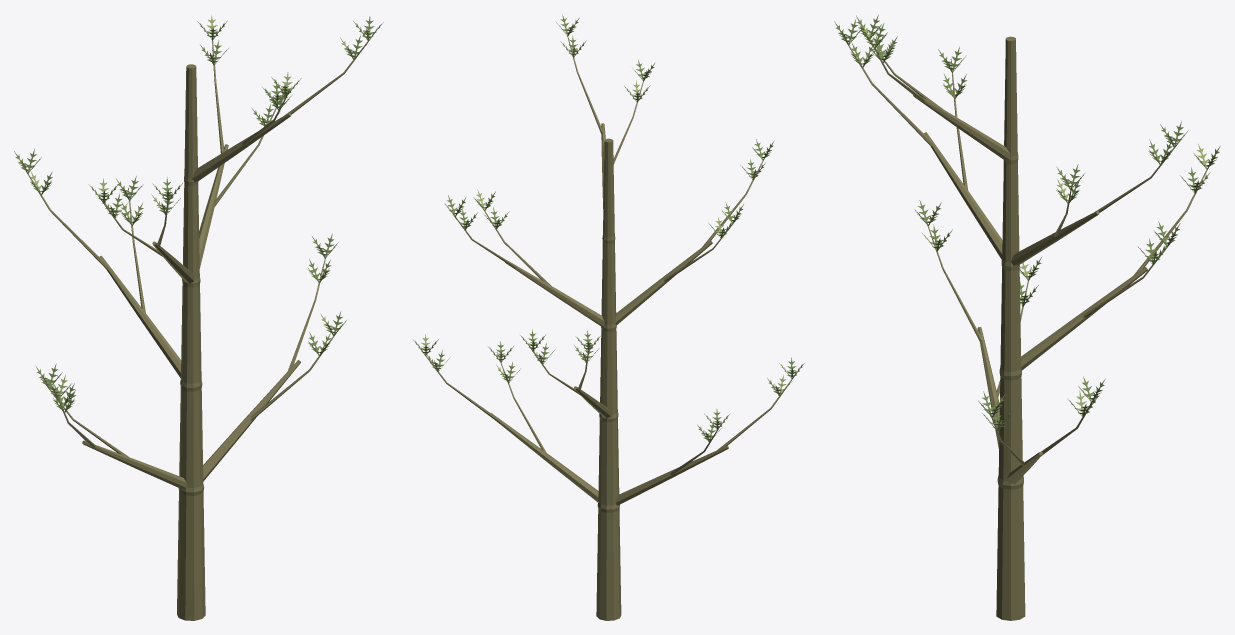
3 renders of one model, left to right at view 1: azimuth 30°, elevation 25°; view 2: azimuth 150°, elevation 25°; view 3: azimuth 270°, elevation 25°, orthographic. The views are drawn at different scales.
Visible parts, largest first — view 1: articulated-four-order-open-scaffold, ninety-six-coherent-laciniate-leaves-in-four-leaf-whorls; view 2: articulated-four-order-open-scaffold, ninety-six-coherent-laciniate-leaves-in-four-leaf-whorls; view 3: articulated-four-order-open-scaffold, ninety-six-coherent-laciniate-leaves-in-four-leaf-whorls.
Boxes of the visible parts, x1,y1,x2,y2 form: articulated-four-order-open-scaffold: (22,27,375,620); ninety-six-coherent-laciniate-leaves-in-four-leaf-whorls: (14,15,383,412); articulated-four-order-open-scaffold: (419,25,798,620); ninety-six-coherent-laciniate-leaves-in-four-leaf-whorls: (413,14,804,442); articulated-four-order-open-scaffold: (842,29,1213,620); ninety-six-coherent-laciniate-leaves-in-four-leaf-whorls: (834,14,1220,431).
Size of the model in its own units: 1.26 by 2.01 by 1.1.
